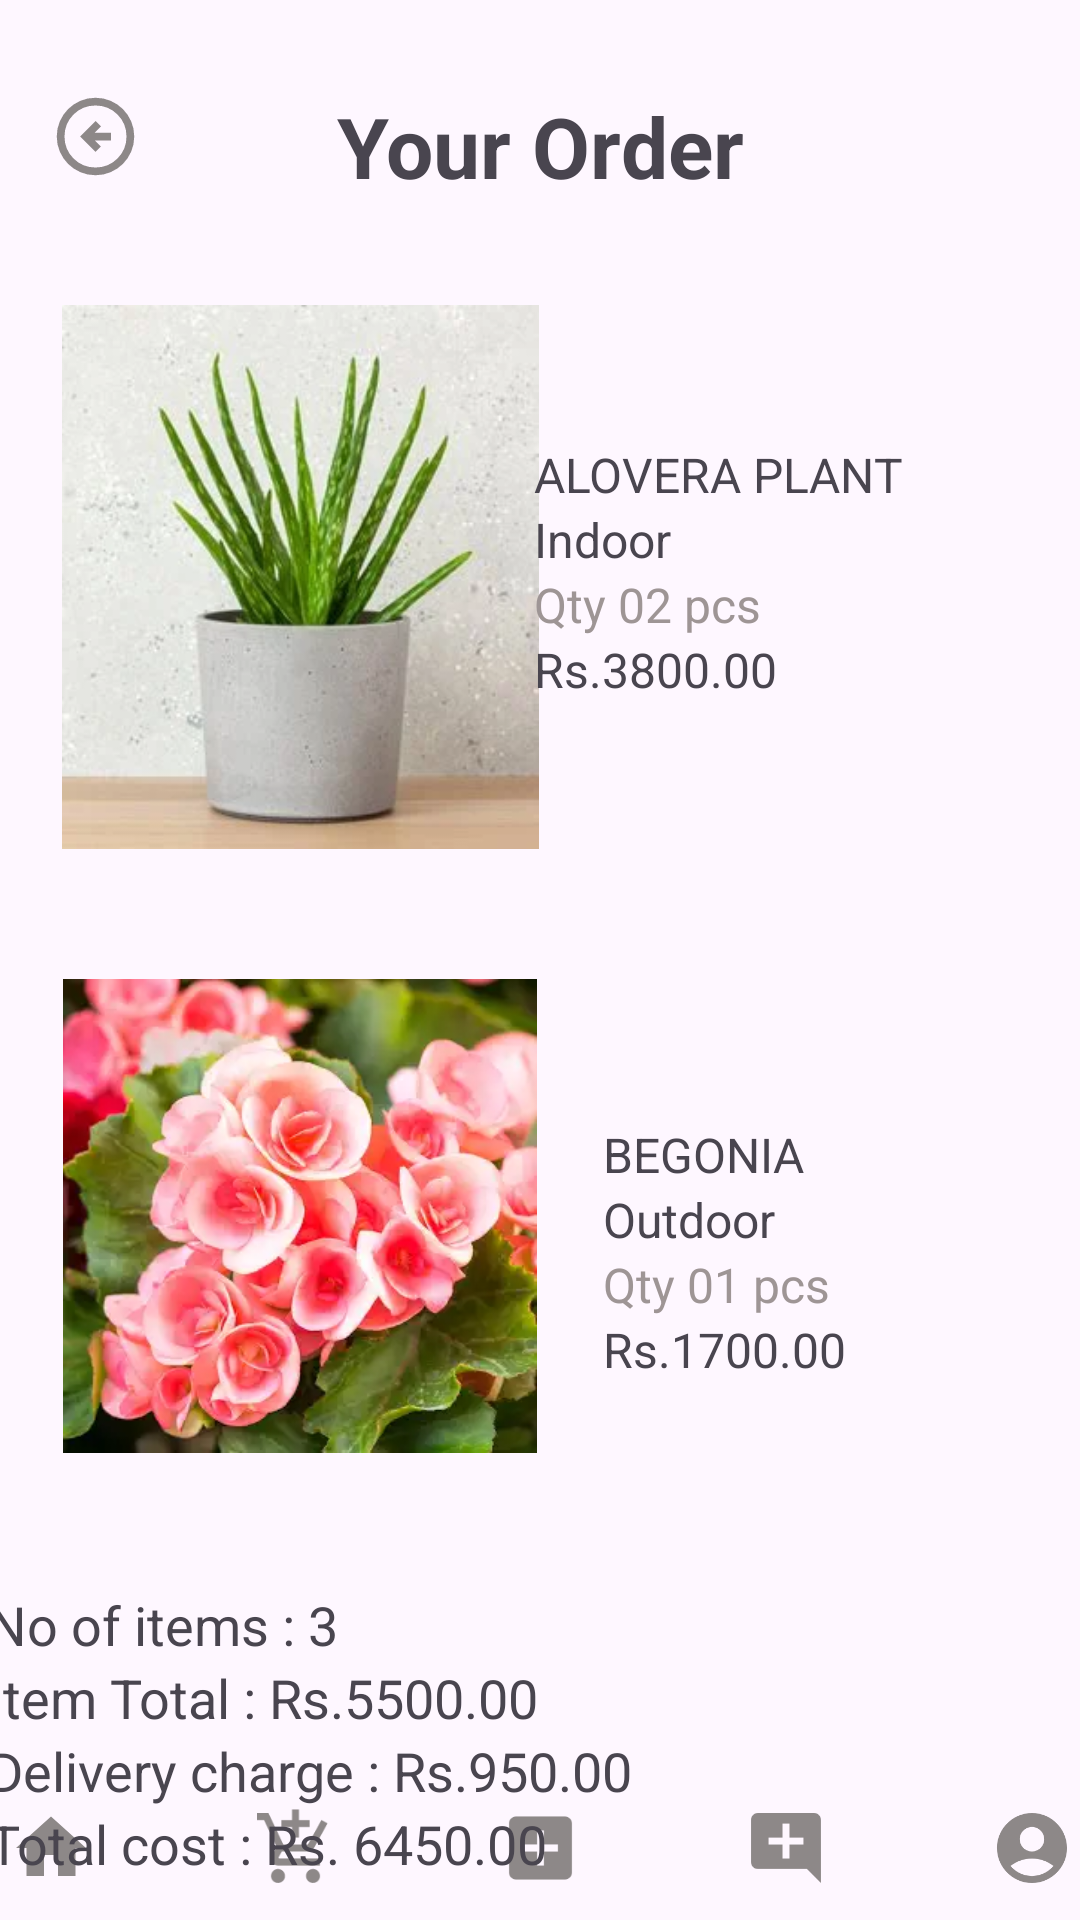

Where to tap for icons on this 1080px×1920px app screen, as (x=x, y=y):
add comment: (x=786, y=1848)
arrow circle left: (x=95, y=136)
